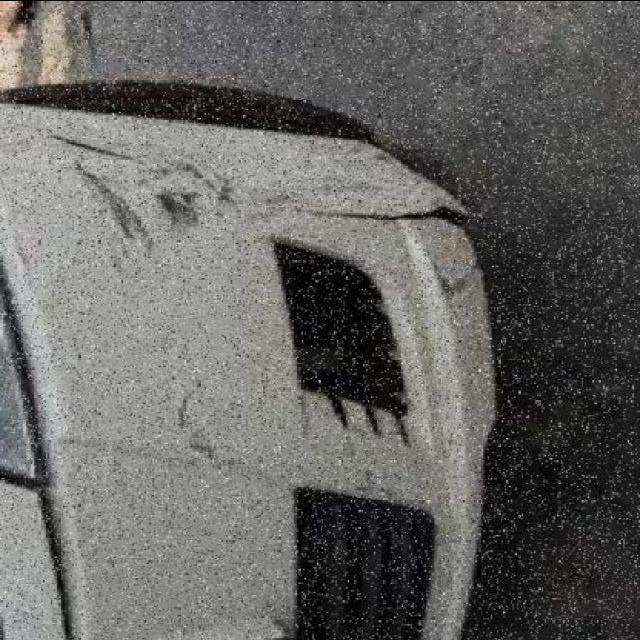front-bumper-dent: (20, 91, 508, 640)
